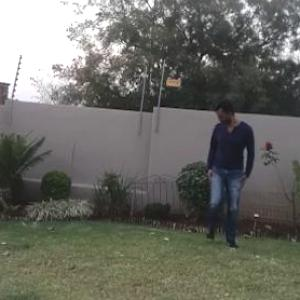follow: (205, 96, 255, 251)
